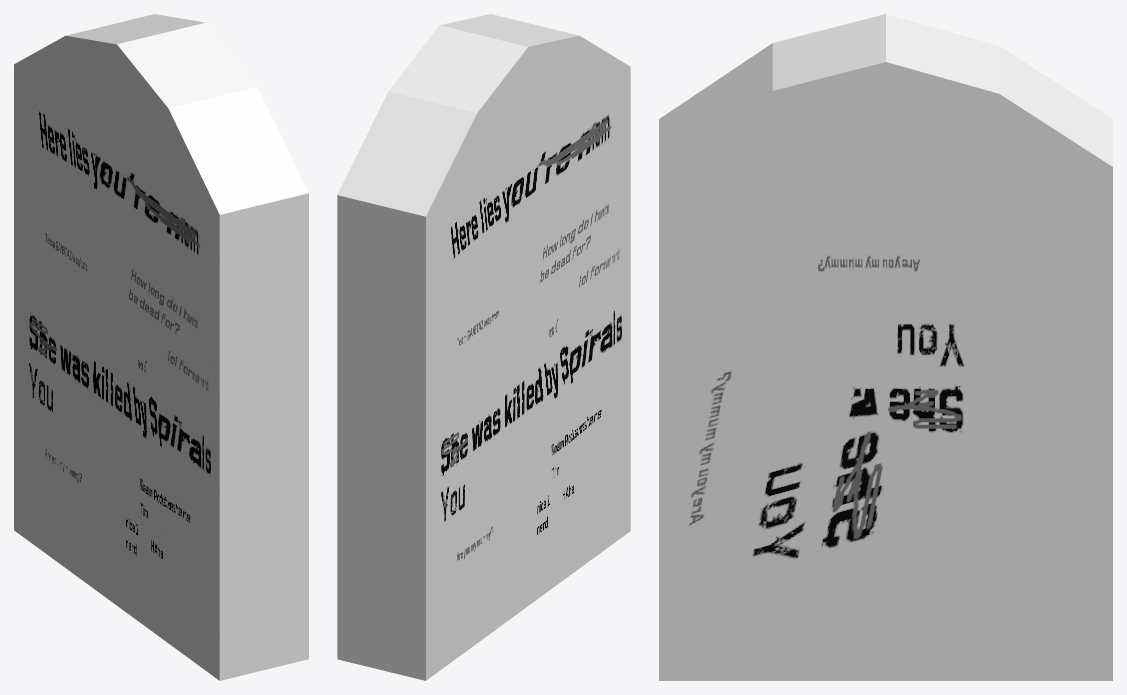
The model's file is grave_stone_fbx.fbx.
3 renders of one model, left to right at view 1: azimuth 30°, elevation 25°; view 2: azimuth 150°, elevation 25°; view 3: azimuth 270°, elevation 25°, orthographic. The views are drawn at different scales.
Parts seen in each view (by area): view 1: Cube; view 2: Cube; view 3: Cube.
Boxes of the visible parts, x1,y1,x2,y2 form: Cube: (14,14,308,680); Cube: (337,14,630,680); Cube: (659,14,1112,680).
Bounding box in the file's own units: 50 × 301 × 200.
